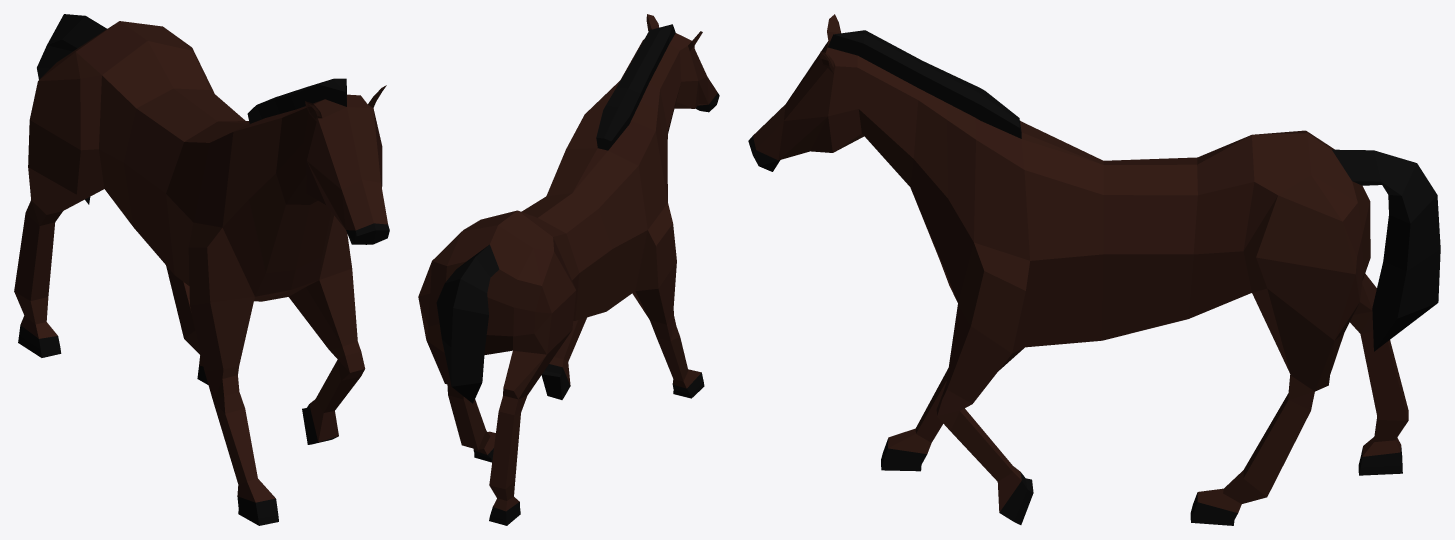
File: Horse_000021.obj
3 renders of one model, left to right at view 1: azimuth 30°, elevation 25°; view 2: azimuth 150°, elevation 25°; view 3: azimuth 270°, elevation 25°, orthographic. The views are drawn at different scales.
Visible parts, largest first — view 1: Horse_Cylinder; view 2: Horse_Cylinder; view 3: Horse_Cylinder.
Part boxes in pixels (box(x1,y1,x2,y2)): Horse_Cylinder: box(14, 14, 389, 525); Horse_Cylinder: box(418, 14, 719, 525); Horse_Cylinder: box(748, 14, 1440, 525).
Size of the model in its own units: 2.56 by 6.7 by 9.12.
